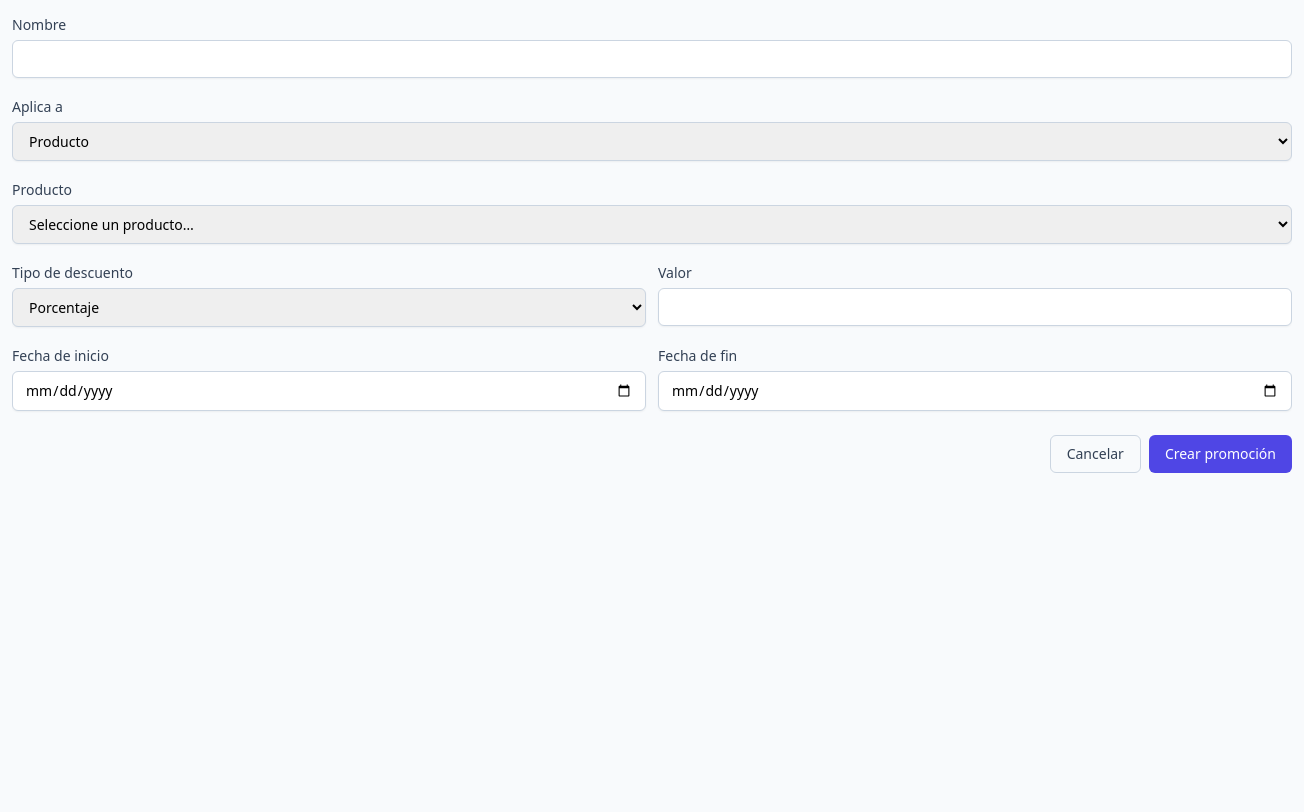
Test: PromotionForm › exige el nombre
Click the button "Crear promoción": [1220, 454] box [1149,435,1292,473]
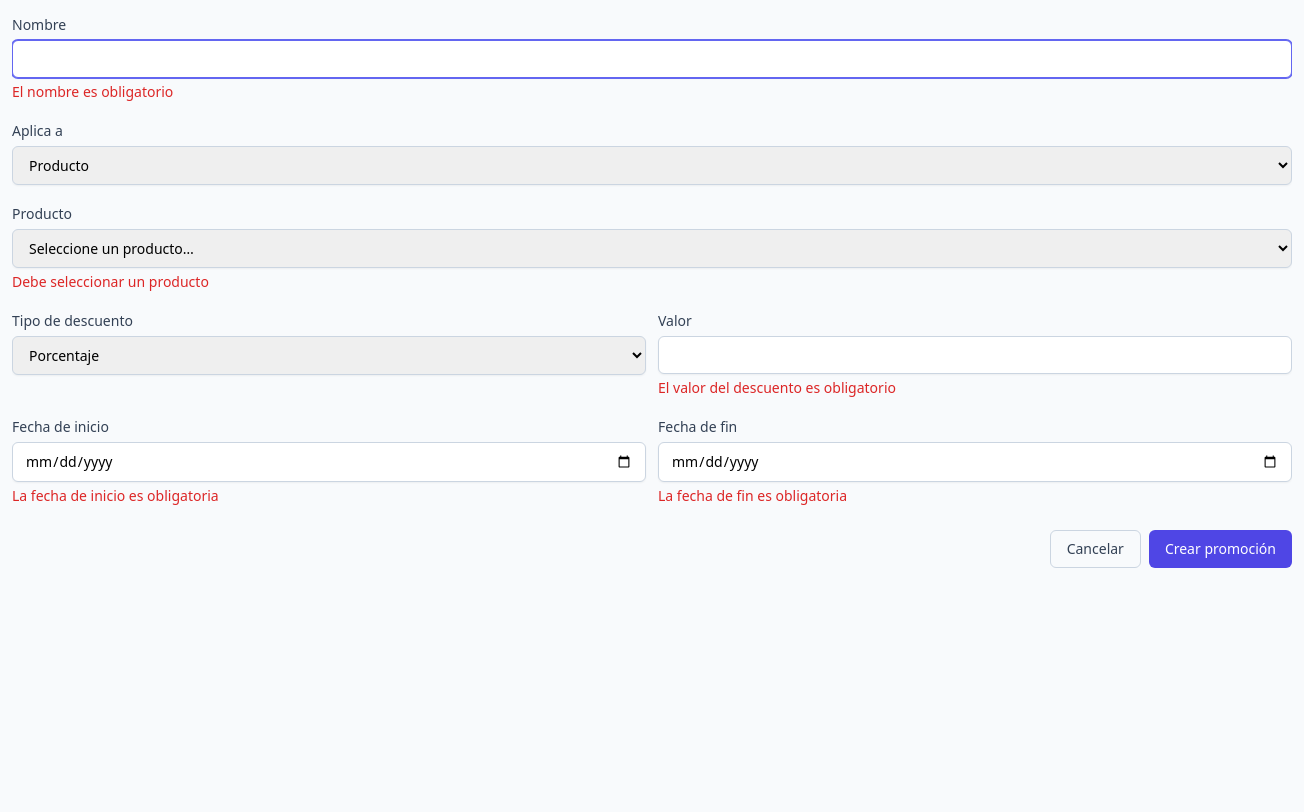
Expected: the text "El nombre es obligatorio" is shown, [12,82,173,101]
